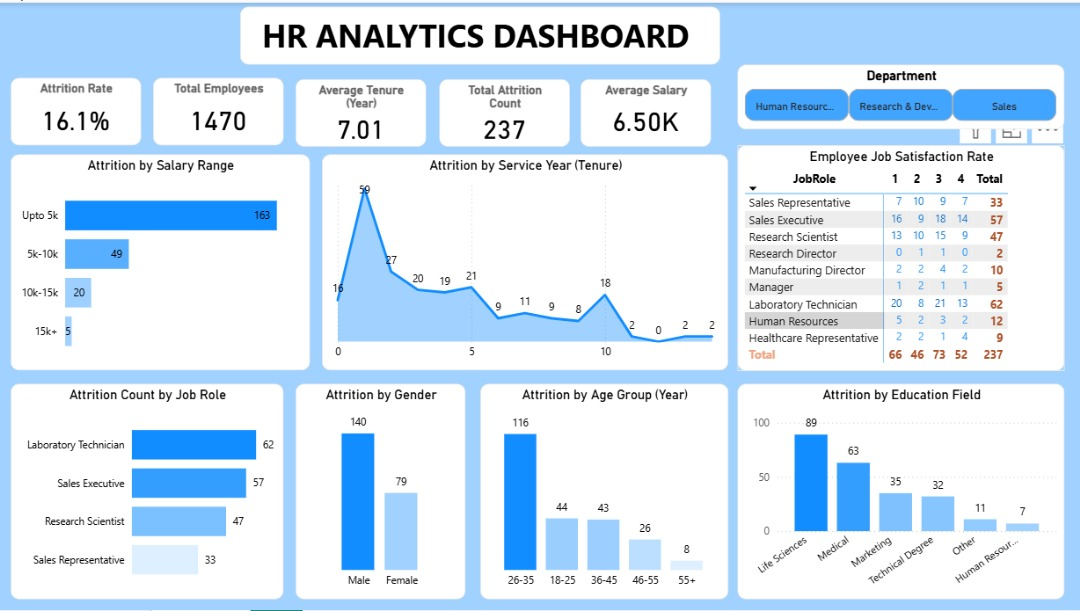

The page's visual inventory and layout, read from the dashboard file:
{"tool":"powerbi","page":{"name":"Page 1","canvas":[1280,720],"ordinal":0},"visuals":[{"type":"card","title":"Average Salary","fields":{"Values":["Avg(HR_Analytics.MonthlyIncome)"]},"box":[687.7,90.7,154.7,79.7],"z":1000},{"type":"card","title":"Average Tenure (Year)","fields":{"Values":["Avg(HR_Analytics.YearsAtCompany)"]},"box":[350.1,90.7,154.7,79.7],"z":2000},{"type":"card","title":"Total Employees ","fields":{"Values":["CountNonNull(HR_Analytics.EmpID)"]},"box":[181.3,89.1,154.7,79.7],"z":3000},{"type":"card","title":"Attrition Rate","fields":{"Values":["HR_Analytics.AttritionRate"]},"box":[12.5,89.1,154.7,79.7],"z":4000},{"type":"card","title":"Total Attrition Count","fields":{"Values":["Sum(HR_Analytics.AttritionsCount)"]},"box":[520.5,90.7,154.7,79.7],"z":5000},{"type":"clusteredColumnChart","title":"Attrition by Education Field","fields":{"Category":["HR_Analytics.EducationField"],"Y":["Sum(HR_Analytics.AttritionsCount)"]},"box":[873.7,451.7,387.6,255],"z":6000},{"type":"columnChart","title":"Attrition by Age Group (Year)","fields":{"Y":["Sum(HR_Analytics.AttritionsCount)"],"Category":["HR_Analytics.AgeGroup"]},"box":[568.9,451.7,293.8,255],"z":7000},{"type":"pivotTable","title":"Employee Job Satisfaction Rate","fields":{"Rows":["HR_Analytics.JobRole"],"Columns":["HR_Analytics.JobSatisfaction"],"Values":["Sum(HR_Analytics.AttritionsCount)"]},"box":[873.7,168.8,387.6,267.3],"z":8000},{"type":"clusteredBarChart","title":"Attrition by Salary Range","fields":{"Category":["HR_Analytics.SalarySlab"],"Y":["Sum(HR_Analytics.AttritionsCount)"]},"box":[12.5,179.7,354.8,256.3],"z":9000},{"type":"clusteredBarChart","title":"Attrition Count by Job Role","fields":{"Category":["HR_Analytics.JobRole"],"Y":["Sum(HR_Analytics.AttritionsCount)"]},"box":[12.5,451.7,323.5,255],"z":10000},{"type":"areaChart","title":"Attrition by Service Year (Tenure)","fields":{"Category":["HR_Analytics.YearsAtCompany"],"Y":["Sum(HR_Analytics.AttritionsCount)"]},"box":[381.4,179.7,481.4,256.3],"z":11000},{"type":"clusteredColumnChart","title":"Attrition by Gender ","fields":{"Category":["HR_Analytics.Gender"],"Y":["Sum(HR_Analytics.AttritionsCount)"]},"box":[350.1,451.7,201.6,255],"z":12000},{"type":"advancedSlicerVisual","fields":{"Values":["HR_Analytics.Department"]},"box":[873.7,73.5,387.6,76.6],"z":13000},{"type":"textbox","box":[284.5,4.7,568.9,68.8],"z":14000}]}

Visuals, with their boxes in screenshot pixels (x1, y1, x2, y2), scaled from the page's 1280x720 canvas onto the 1080x611 screenshot:
"Average Salary" card: bbox(580, 77, 711, 145)
"Average Tenure (Year)" card: bbox(295, 77, 426, 145)
"Total Employees " card: bbox(153, 76, 284, 143)
"Attrition Rate" card: bbox(11, 76, 141, 143)
"Total Attrition Count" card: bbox(439, 77, 570, 145)
"Attrition by Education Field" clusteredColumnChart: bbox(737, 383, 1064, 600)
"Attrition by Age Group (Year)" columnChart: bbox(480, 383, 728, 600)
"Employee Job Satisfaction Rate" pivotTable: bbox(737, 143, 1064, 370)
"Attrition by Salary Range" clusteredBarChart: bbox(11, 152, 310, 370)
"Attrition Count by Job Role" clusteredBarChart: bbox(11, 383, 284, 600)
"Attrition by Service Year (Tenure)" areaChart: bbox(322, 152, 728, 370)
"Attrition by Gender " clusteredColumnChart: bbox(295, 383, 465, 600)
advancedSlicerVisual - HR_Analytics.Department: bbox(737, 62, 1064, 127)
textbox: bbox(240, 4, 720, 62)
